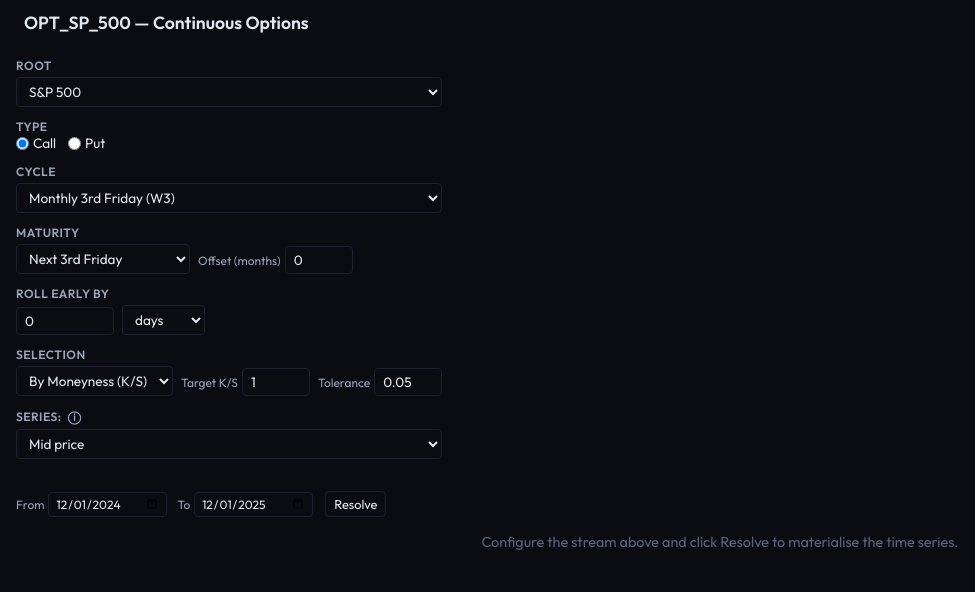
Scenario: ContinuousOptionsChart — resolve flow › renders error state on resolution failure
Click the button with test id "resolve-button".
click(356, 504)  # box [325,491,386,517]
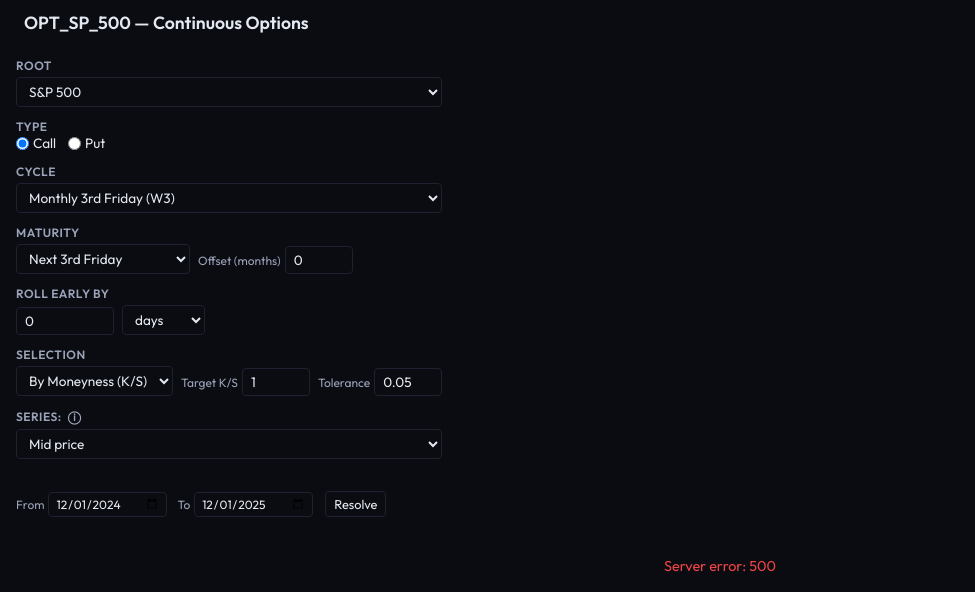
Now the text "Server error: 500" is shown, box [664,557,776,575]
